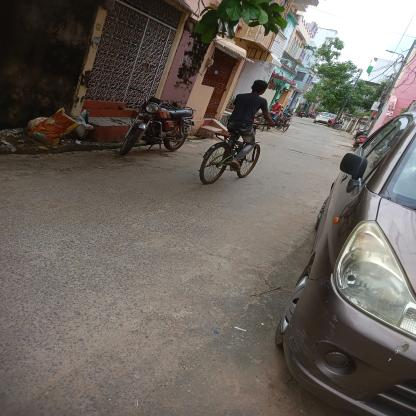bike: (195, 126, 273, 190)
